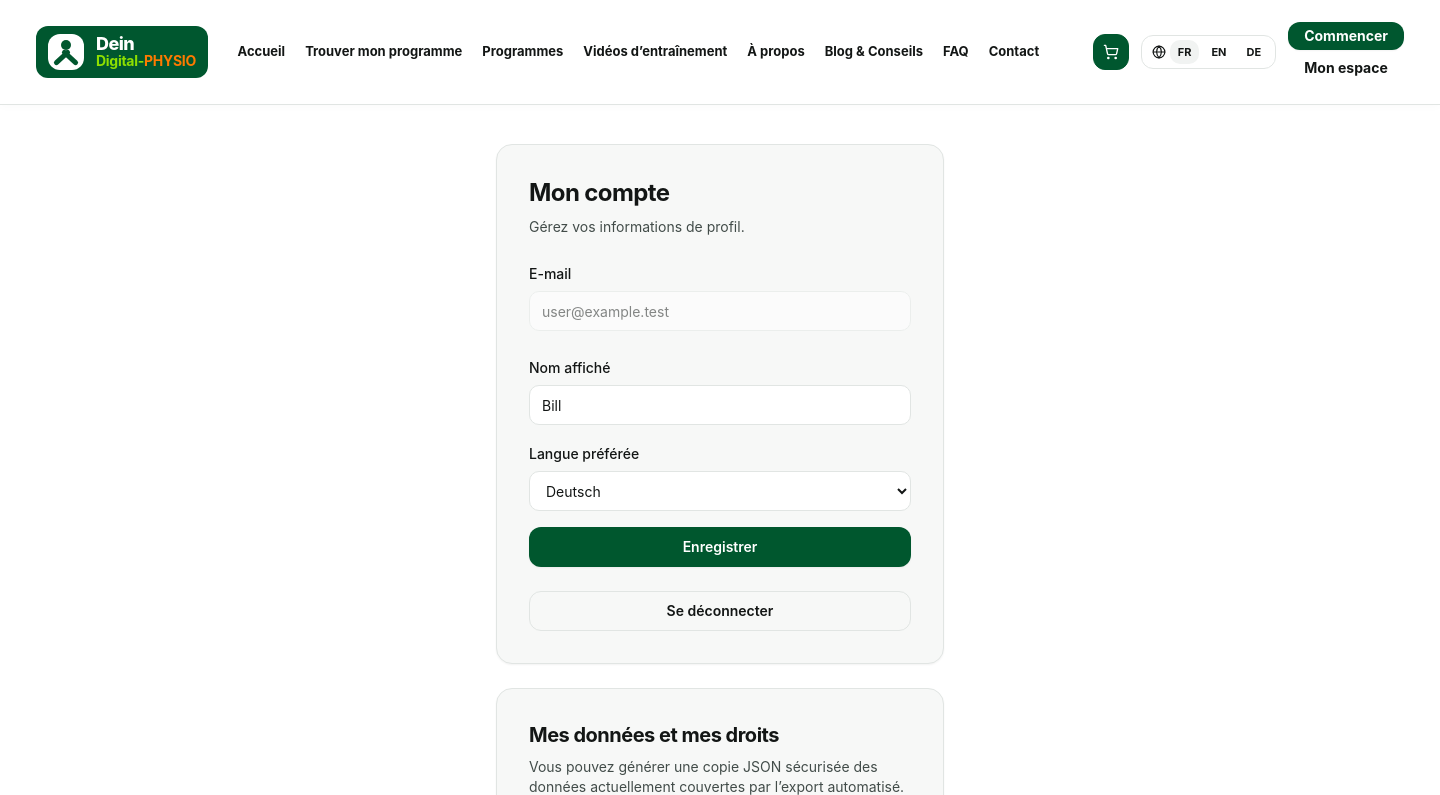
/account › saves display_name and preferred_language
The image size is (1440, 795).
Replace the text in the field showing "Bill" with "  Bill B  " at (720, 405), box top-left (529, 385), bottom-right (911, 425)
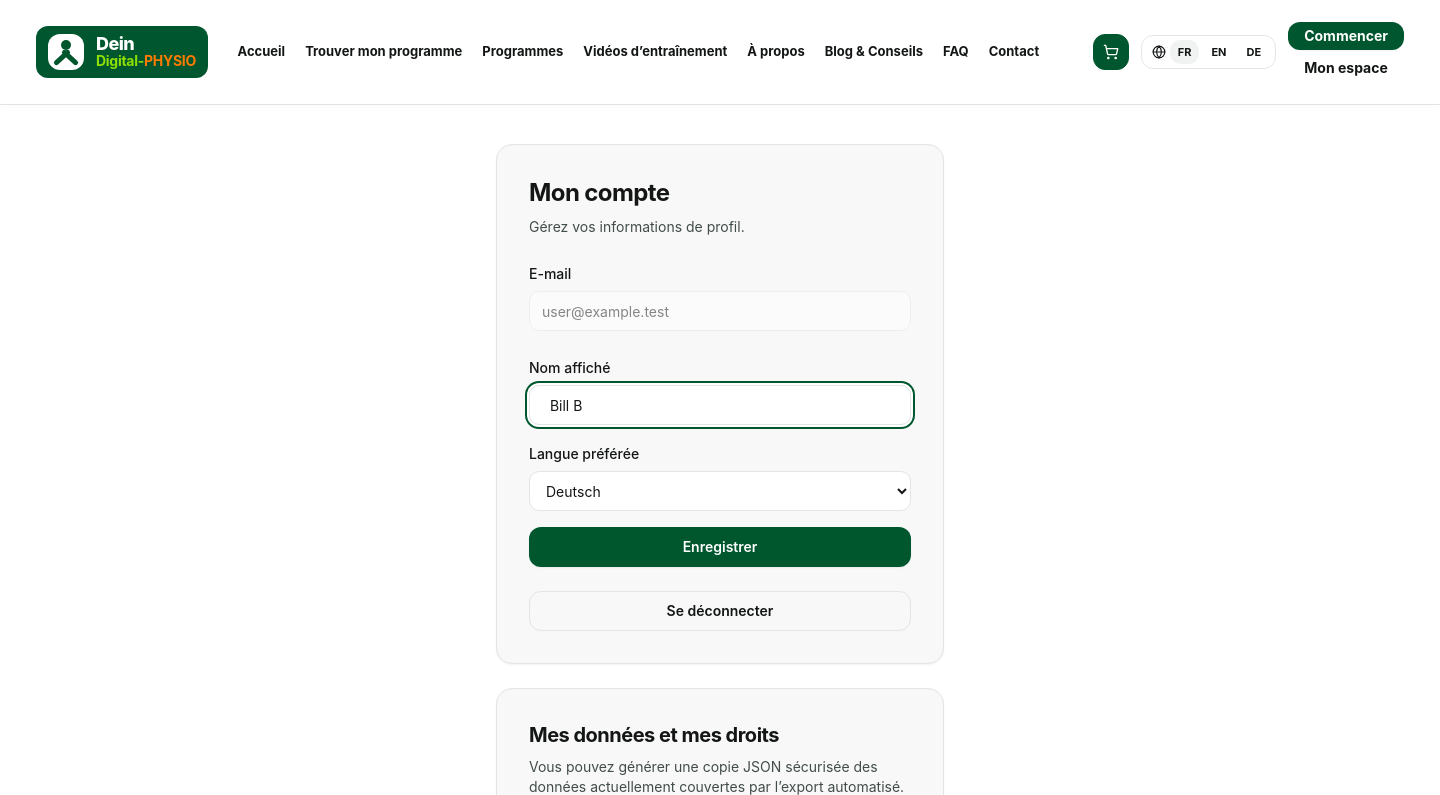
Select "Français" in the dropdown labelled "Langue préférée" at (720, 491), box top-left (529, 471), bottom-right (911, 511)
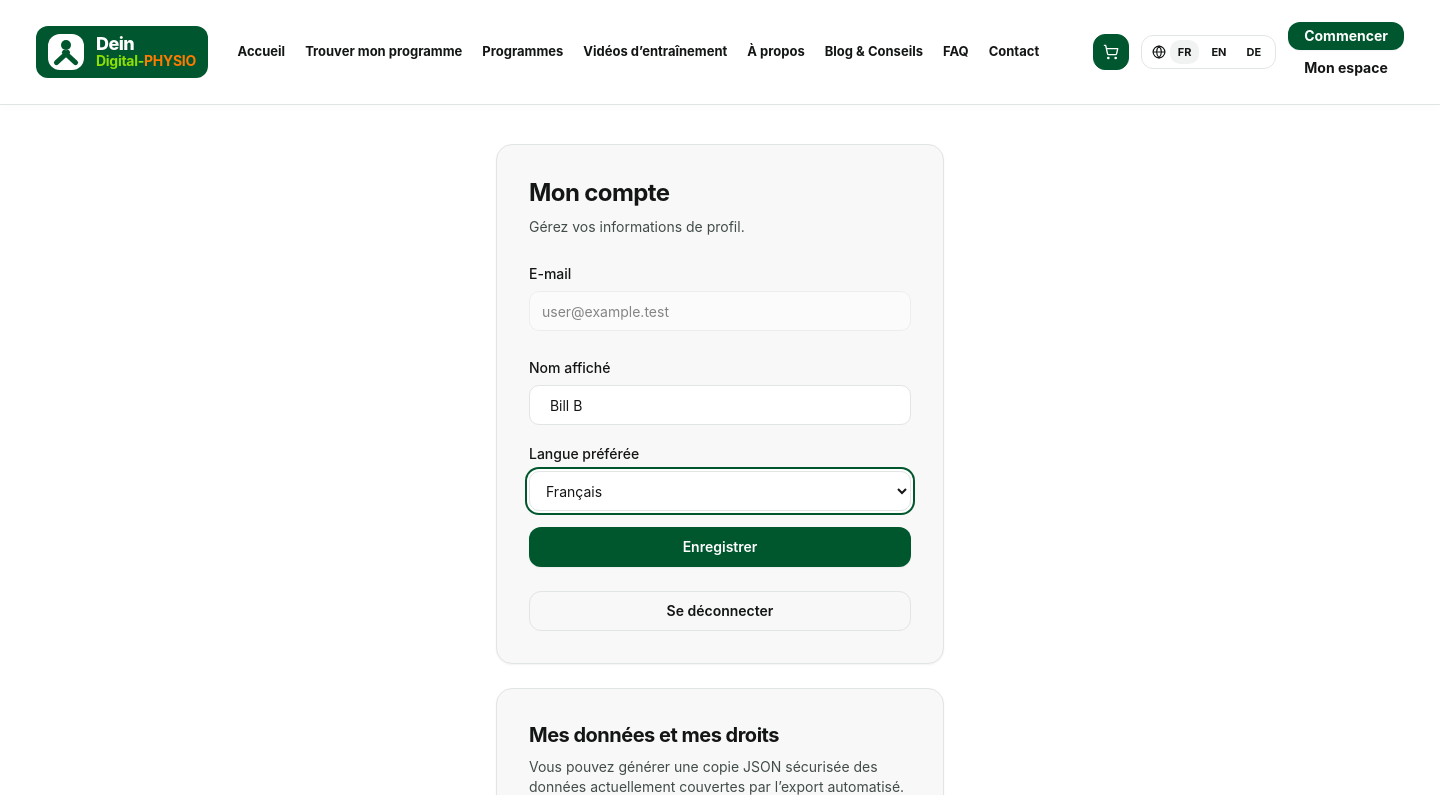
Click the button "Enregistrer" at (720, 547), box top-left (529, 527), bottom-right (911, 567)
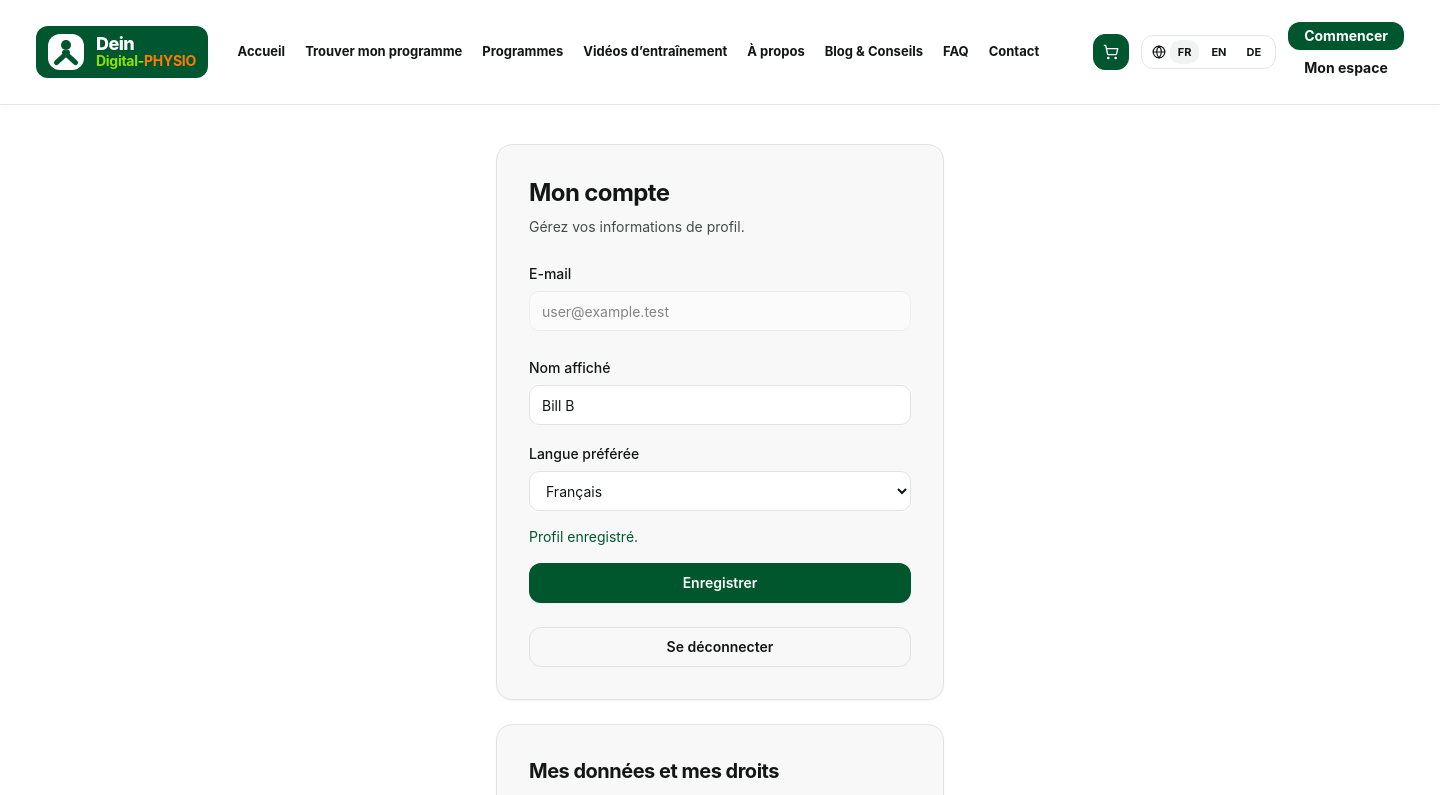
Expected: the message shows "enregistré", top-left (529, 528), bottom-right (638, 545)
